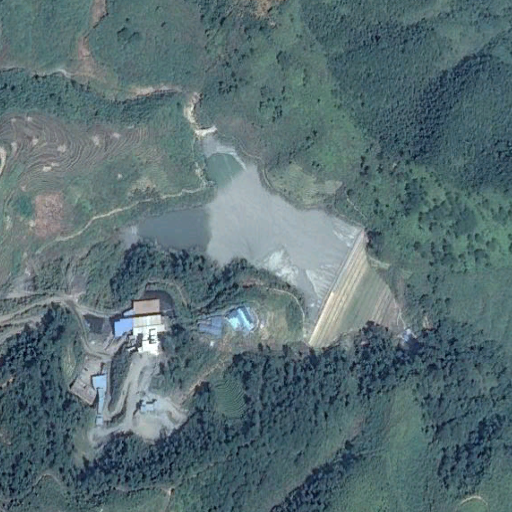tp: (125, 127, 410, 355)
